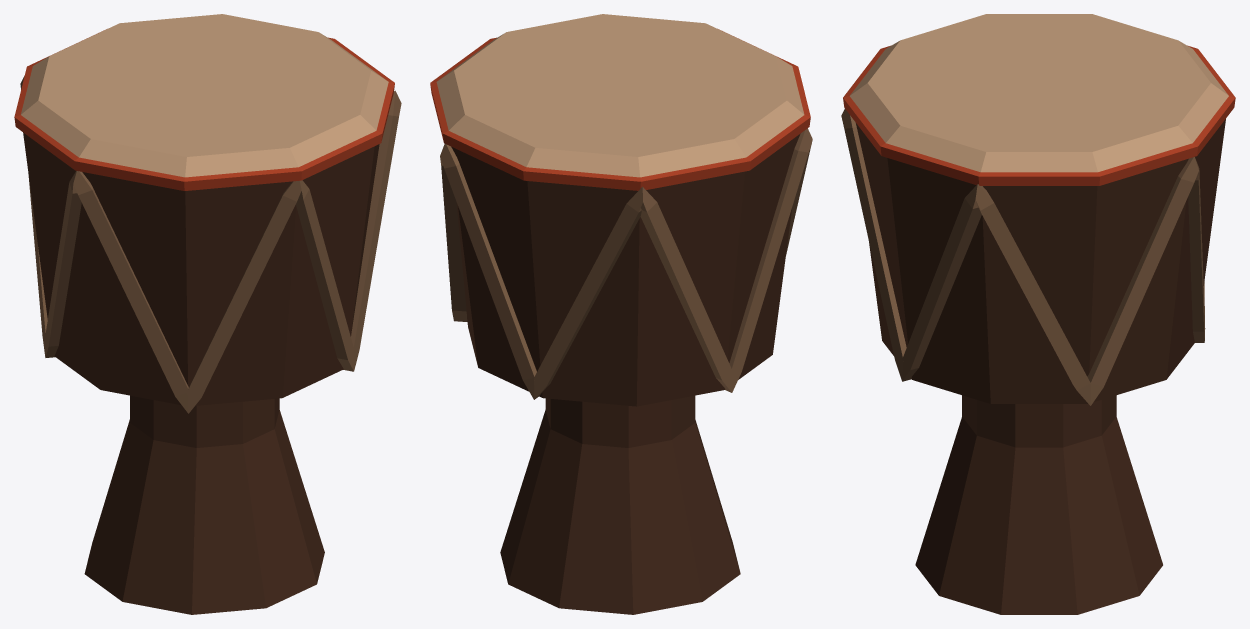
Rendered from Drums.fbx.
3 renders of one model, left to right at view 1: azimuth 30°, elevation 25°; view 2: azimuth 150°, elevation 25°; view 3: azimuth 270°, elevation 25°, orthographic.
Visible parts, largest first — view 1: Drum, Rope; view 2: Drum, Rope; view 3: Drum, Rope.
Boxes of the visible parts, <box> form: Drum: <box>14,14,394,614</box>; Rope: <box>20,76,401,413</box>; Drum: <box>430,14,810,614</box>; Rope: <box>440,128,812,399</box>; Drum: <box>843,14,1235,614</box>; Rope: <box>841,109,1205,405</box>.
Bounding box in the file's own units: 9.15 × 12.77 × 9.47.
Materials: 2 (2 with a texture image).
